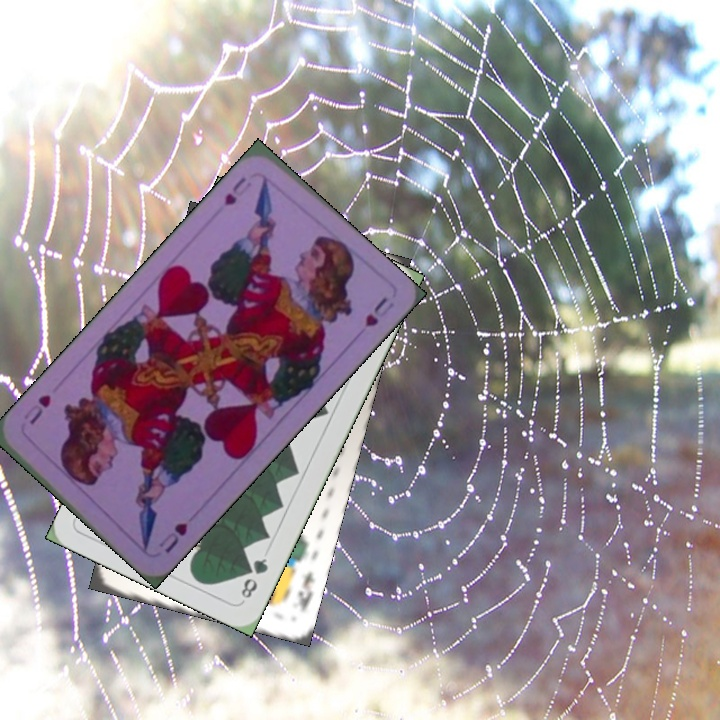EK: (294, 567, 317, 615)
G8: (237, 554, 271, 601)
HU: (155, 518, 190, 557), (219, 173, 254, 209)
